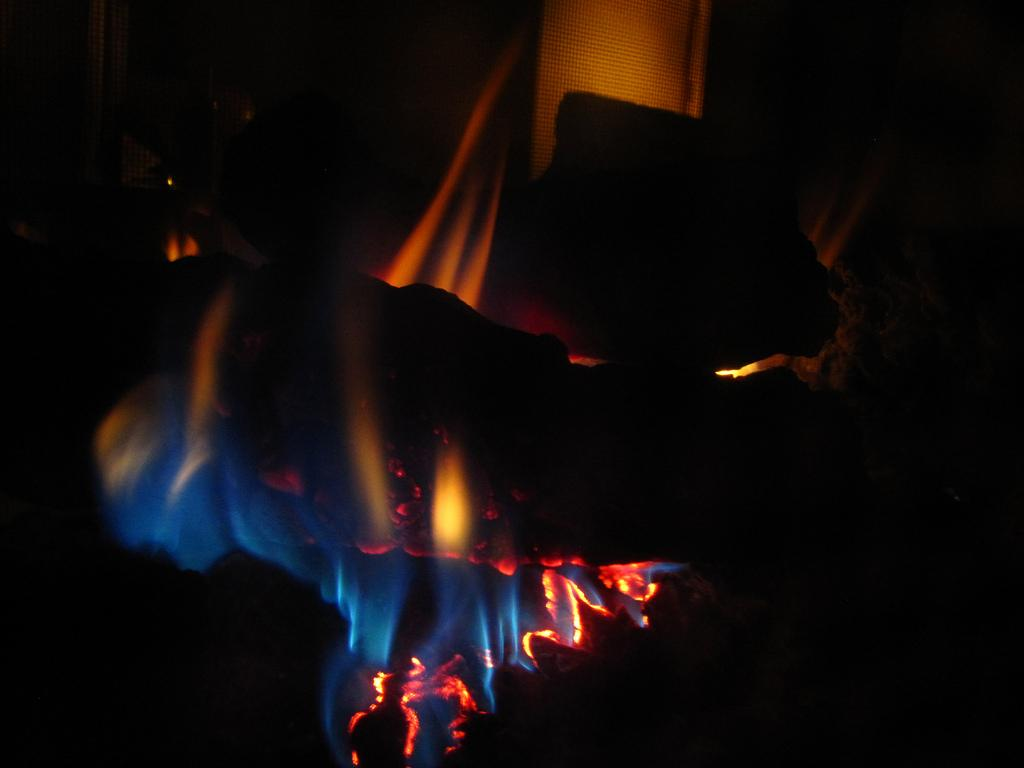fire: (534, 8, 684, 102), (432, 456, 476, 542)
